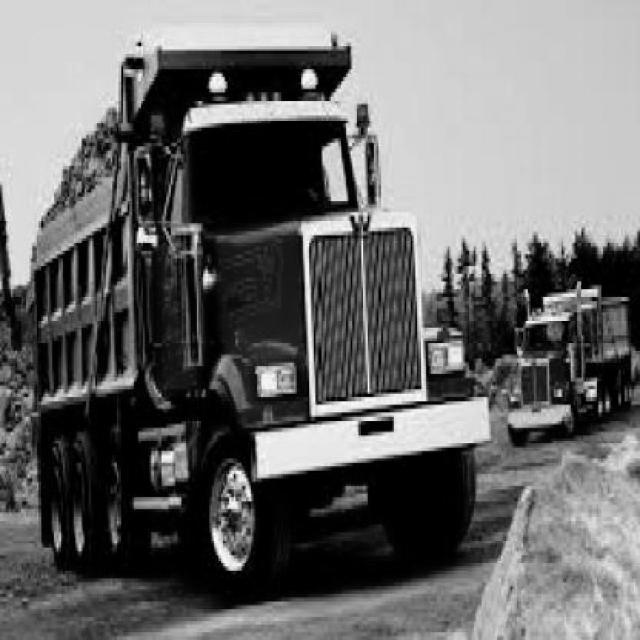Box Truck: (31, 47, 492, 592), (500, 281, 630, 446)
